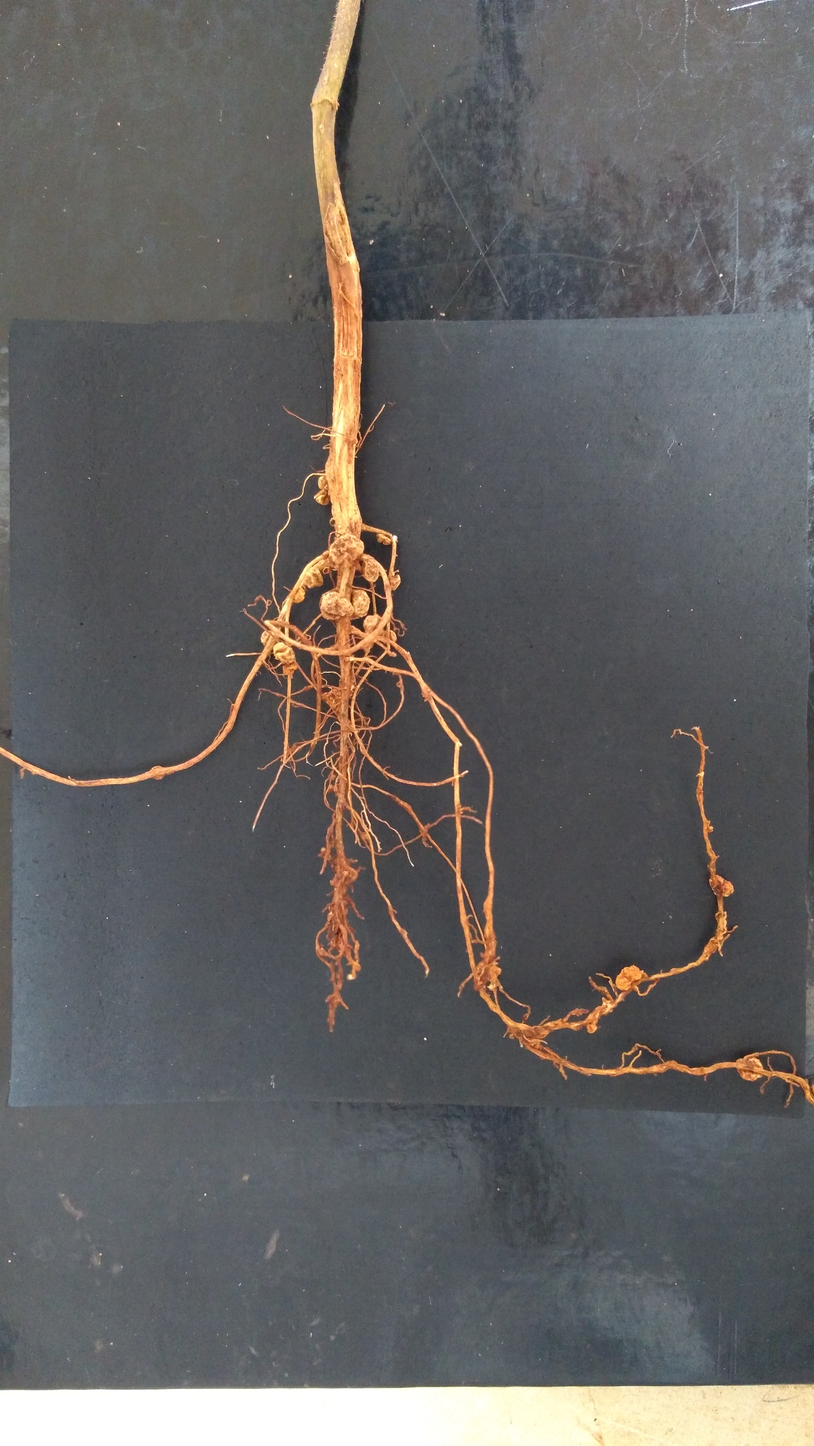nodule: (329, 534, 365, 570), (319, 591, 355, 620), (615, 964, 643, 991), (735, 1056, 763, 1081), (350, 588, 370, 620), (708, 874, 734, 897), (471, 960, 490, 991), (273, 641, 295, 665), (363, 614, 384, 637), (322, 688, 343, 711), (304, 565, 323, 589), (361, 558, 379, 583), (313, 484, 330, 506), (261, 630, 279, 647), (522, 1036, 542, 1051), (487, 965, 502, 983), (375, 531, 392, 546), (292, 585, 306, 603), (381, 629, 397, 644), (150, 765, 166, 780), (600, 997, 613, 1015), (347, 682, 360, 697), (317, 474, 328, 490), (390, 574, 401, 590), (362, 640, 374, 654), (586, 1021, 598, 1034), (486, 979, 499, 990), (360, 830, 371, 843), (282, 665, 294, 676), (705, 820, 714, 834), (318, 947, 327, 958), (287, 662, 298, 670), (326, 911, 334, 921), (340, 905, 348, 915), (341, 870, 350, 878), (314, 672, 324, 679), (341, 884, 348, 894), (322, 550, 330, 558), (343, 655, 351, 663), (327, 784, 335, 792), (329, 878, 337, 886), (347, 973, 355, 981), (341, 898, 349, 905), (508, 1032, 515, 1040), (346, 765, 352, 774), (389, 651, 397, 657), (329, 774, 337, 780), (319, 846, 326, 852)
